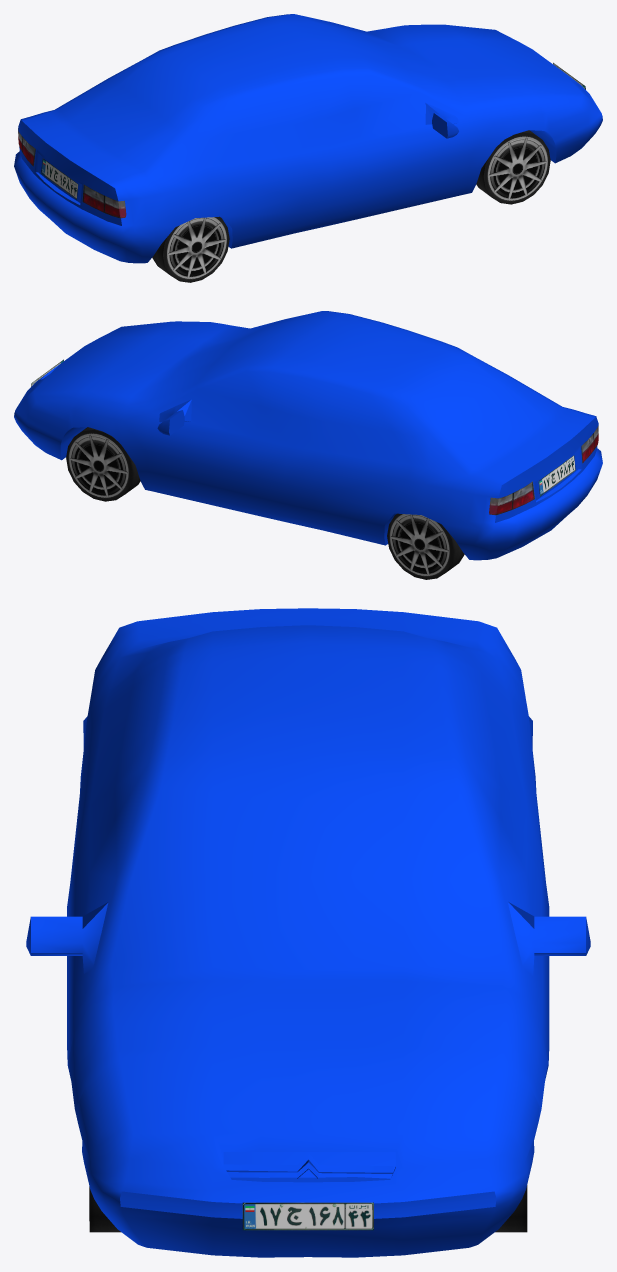
The model's file is xantia.FBX.
3 views of the same model, one above another, from view 1: azimuth 30°, elevation 25°; view 2: azimuth 150°, elevation 25°; view 3: azimuth 270°, elevation 25° (orthographic). The views are drawn at different scales.
Parts seen in each view (by area): view 1: Plane056, Cylinder015, Cylinder016, Plane061, Plane057; view 2: Plane056, Cylinder013, Cylinder014, Plane061, Plane057; view 3: Plane056, Plane058.
Part boxes in pixels (x1,y1,x2,y2): Plane056: (14,14,602,263); Cylinder015: (476,130,550,204); Cylinder016: (152,216,229,282); Plane061: (18,128,126,218); Plane057: (41,158,78,199); Plane056: (14,311,602,560); Cylinder013: (66,427,140,501); Cylinder014: (387,513,464,579); Plane061: (489,426,598,515); Plane057: (538,455,575,496); Plane056: (26,608,590,1257); Plane058: (242,1202,373,1230).
Bounding box in the file's own units: 233 × 69.1 × 108.
4 materials, 3 textured.
